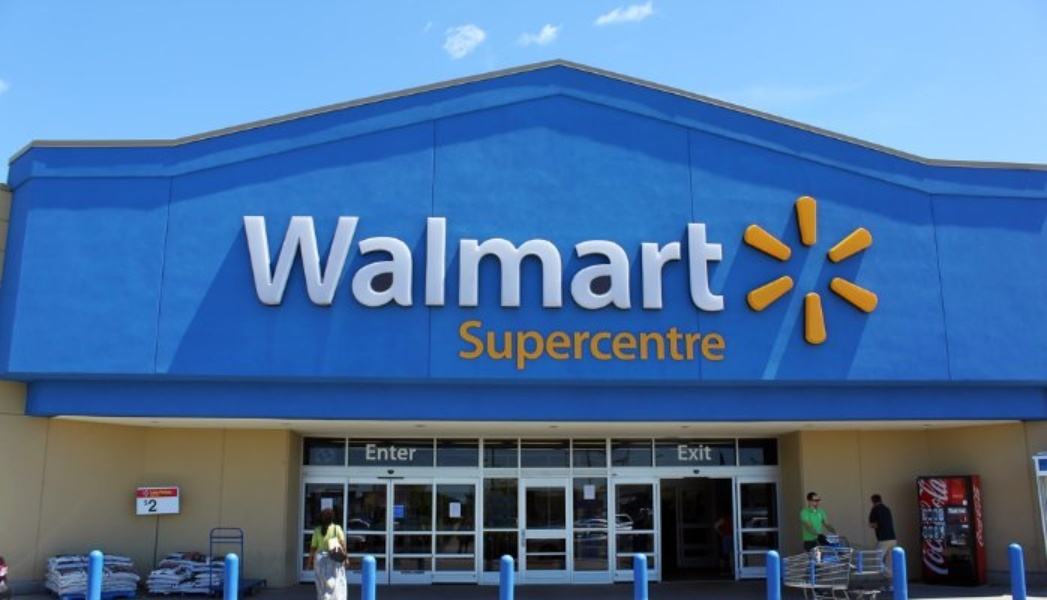text: (241, 211, 256, 317), (257, 211, 272, 317), (273, 211, 288, 317), (289, 211, 304, 317), (305, 211, 320, 317), (321, 211, 336, 317), (337, 211, 352, 317), (353, 211, 368, 317), (369, 211, 384, 317), (385, 211, 400, 317), (401, 211, 416, 317), (417, 211, 432, 317), (433, 211, 448, 317), (449, 211, 464, 317), (465, 211, 480, 317), (481, 211, 496, 317), (497, 211, 512, 317), (513, 211, 528, 317), (529, 211, 544, 317), (545, 211, 560, 317), (561, 211, 576, 317), (577, 211, 592, 317), (593, 211, 608, 317), (609, 211, 624, 317), (625, 211, 640, 317), (641, 211, 656, 317), (657, 211, 672, 317), (673, 211, 688, 317), (689, 211, 704, 317), (705, 211, 720, 317), (721, 211, 736, 317), (929, 479, 944, 577), (919, 479, 928, 577), (465, 313, 480, 368), (481, 313, 496, 368), (497, 313, 512, 368), (513, 313, 528, 368), (529, 313, 544, 368), (545, 313, 560, 368), (561, 313, 576, 368), (577, 313, 592, 368), (593, 313, 608, 368), (609, 313, 624, 368), (625, 313, 640, 368), (641, 313, 656, 368), (657, 313, 672, 368), (673, 313, 688, 368), (689, 313, 704, 368), (705, 313, 720, 368), (945, 479, 952, 577), (236, 211, 240, 317), (721, 313, 728, 368), (458, 313, 464, 368), (689, 443, 704, 463), (369, 443, 384, 461), (385, 443, 400, 461), (401, 443, 416, 461), (676, 443, 688, 463), (146, 499, 160, 514), (705, 443, 713, 463), (365, 443, 368, 461), (417, 443, 419, 461)
